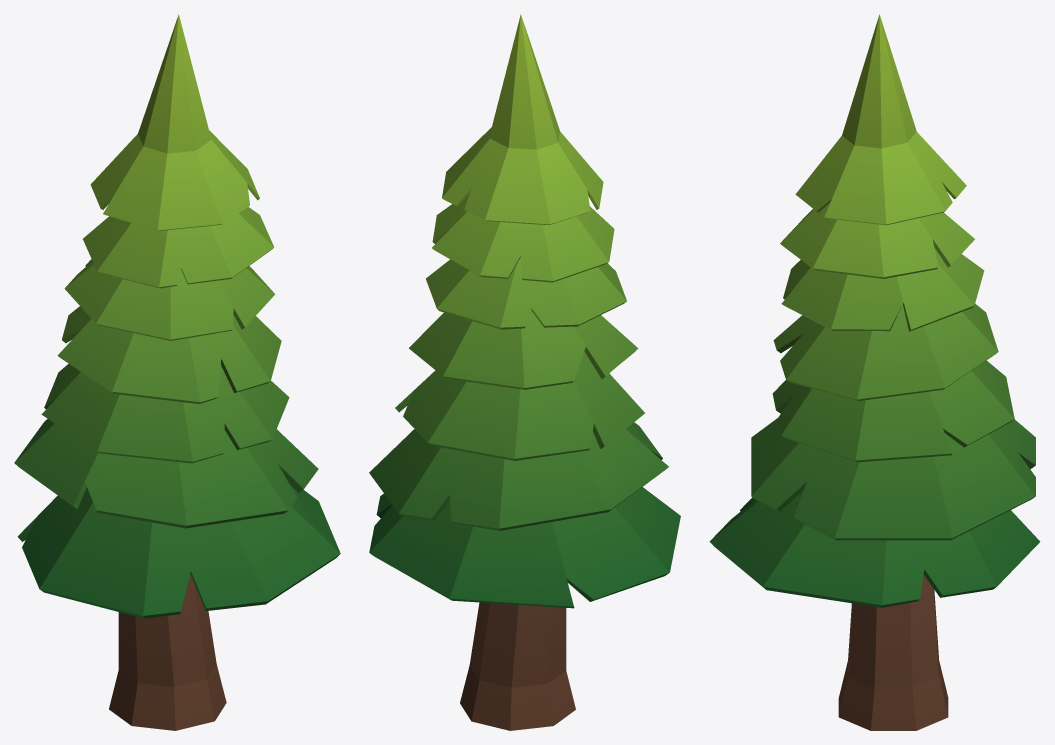
Rendered from Pohon.fbx.
3 renders of one model, left to right at view 1: azimuth 30°, elevation 25°; view 2: azimuth 150°, elevation 25°; view 3: azimuth 270°, elevation 25°, orthographic.
Visible parts, largest first — view 1: Cylinder.007, Cylinder; view 2: Cylinder.007, Cylinder; view 3: Cylinder.007, Cylinder.
Part boxes in pixels (left/top/right/bottom): Cylinder.007: left=14, top=14, right=340, bottom=618; Cylinder: left=109, top=574, right=226, bottom=730; Cylinder.007: left=369, top=14, right=680, bottom=608; Cylinder: left=460, top=602, right=575, bottom=730; Cylinder.007: left=709, top=14, right=1040, bottom=607; Cylinder: left=838, top=574, right=948, bottom=730.
Size of the model in its own units: 1076 by 2497 by 1077.
